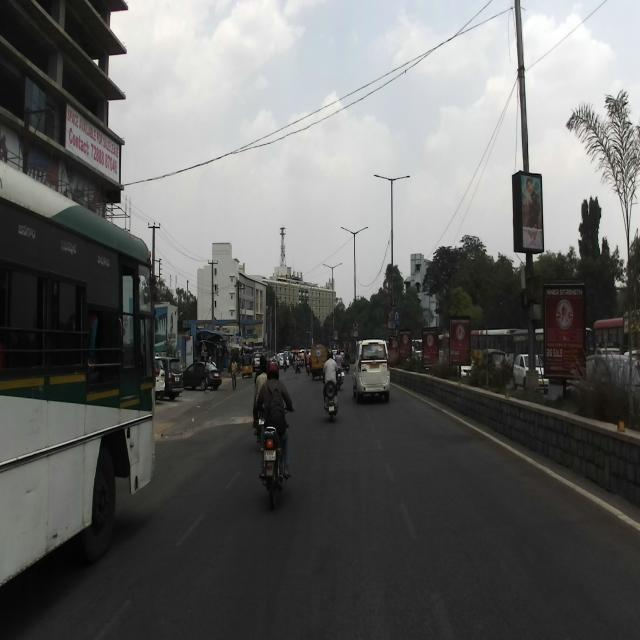Car_Mahindra: (352, 338, 392, 402)
bus: (0, 159, 158, 585)
motorcycle_Hero: (259, 403, 294, 508)
scooter: (321, 375, 339, 421)
